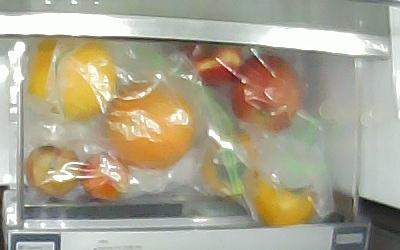apple_vinyl: (231, 54, 303, 131), (162, 39, 242, 85)
grapefruit_vinyl: (107, 83, 196, 169), (28, 37, 116, 121)
persimmon_vinyl: (245, 171, 316, 226), (202, 131, 258, 194)
prune_vinyl: (25, 146, 80, 197), (81, 153, 130, 200)
